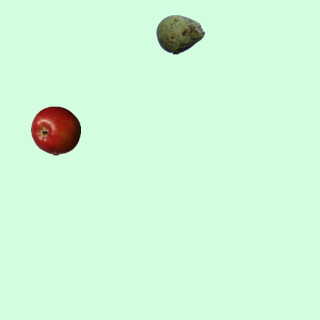Apple Braeburn: (30, 105, 80, 155)
Pear Stone: (155, 9, 205, 59)
